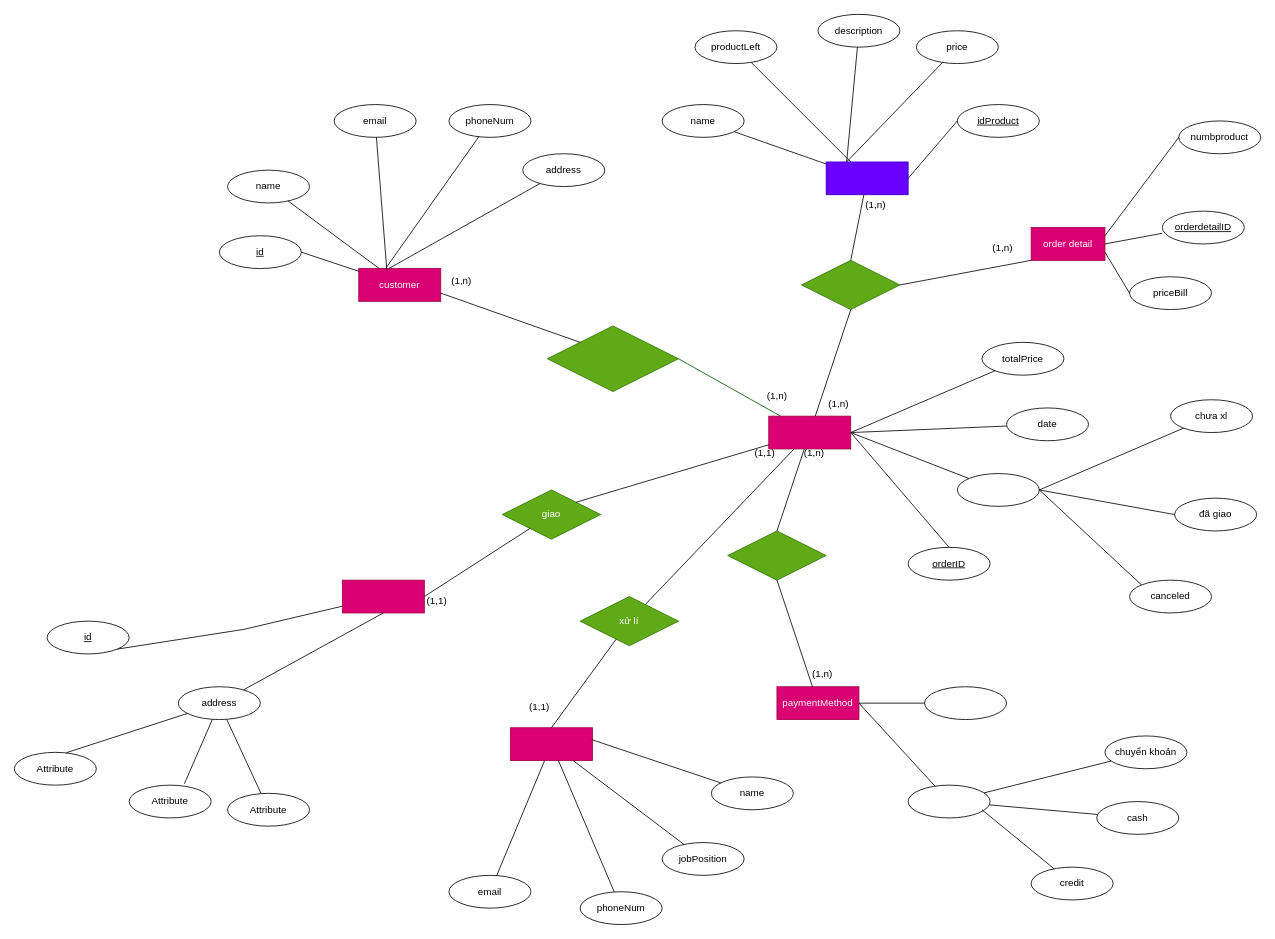
The diagram is 1275 pixels wide and 939 high, and some of its shapes have lost their labels. The centre of each missing label's shape, as x and y in pixels:
"buy" belongs at [613,358].
"chứa thông tin" belongs at [850,285].
"employee" belongs at [551,744].
"namePayment" belongs at [948,801].
"order" belongs at [809,432].
"pay" belongs at [776,555].
"paymentID" belongs at [965,703].
"product" belongs at [866,178].
"shippingAddress" belongs at [383,596].
"status" belongs at [998,489].
